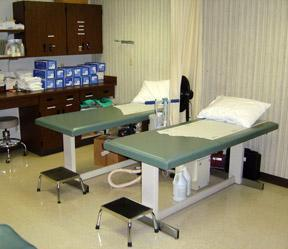Cama: (106, 100, 281, 187), (33, 83, 175, 138)
Otro Obstaculo: (85, 197, 163, 248), (33, 168, 94, 205)
